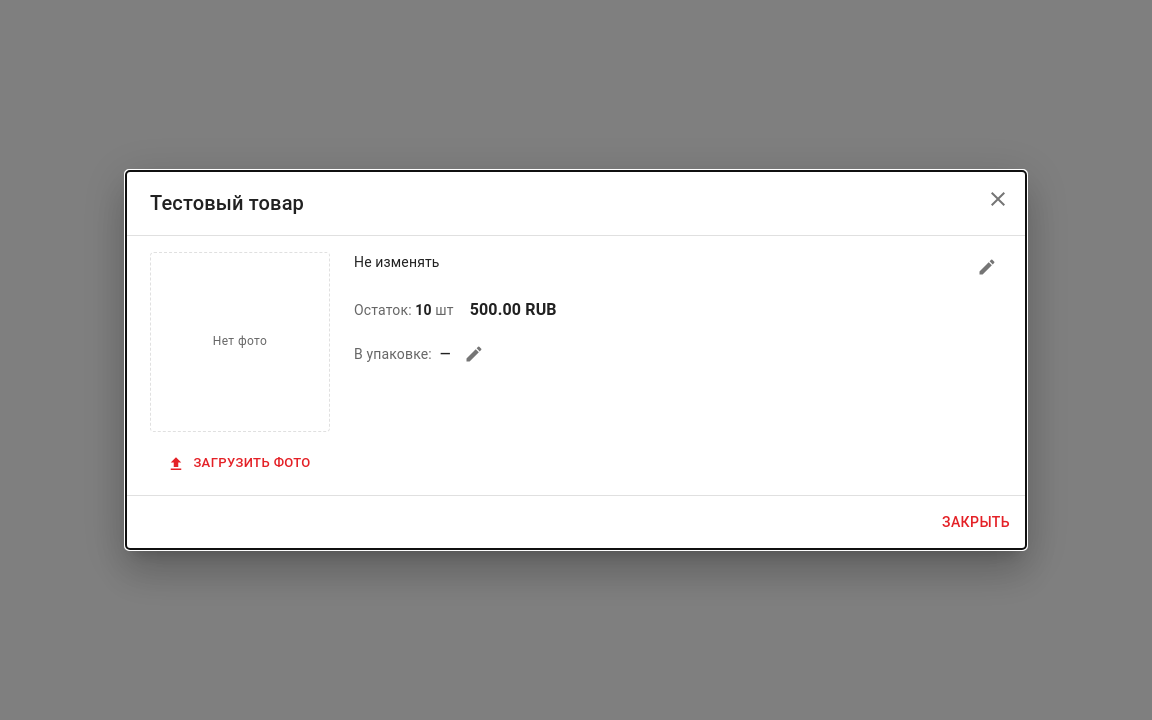
it: ProductDetailModal — editable description (ADMIN) › Отмена возвращает прежнее описание без вызова API
Click the button named "Редактировать описание" at (987, 267), box [972, 252, 1002, 282]
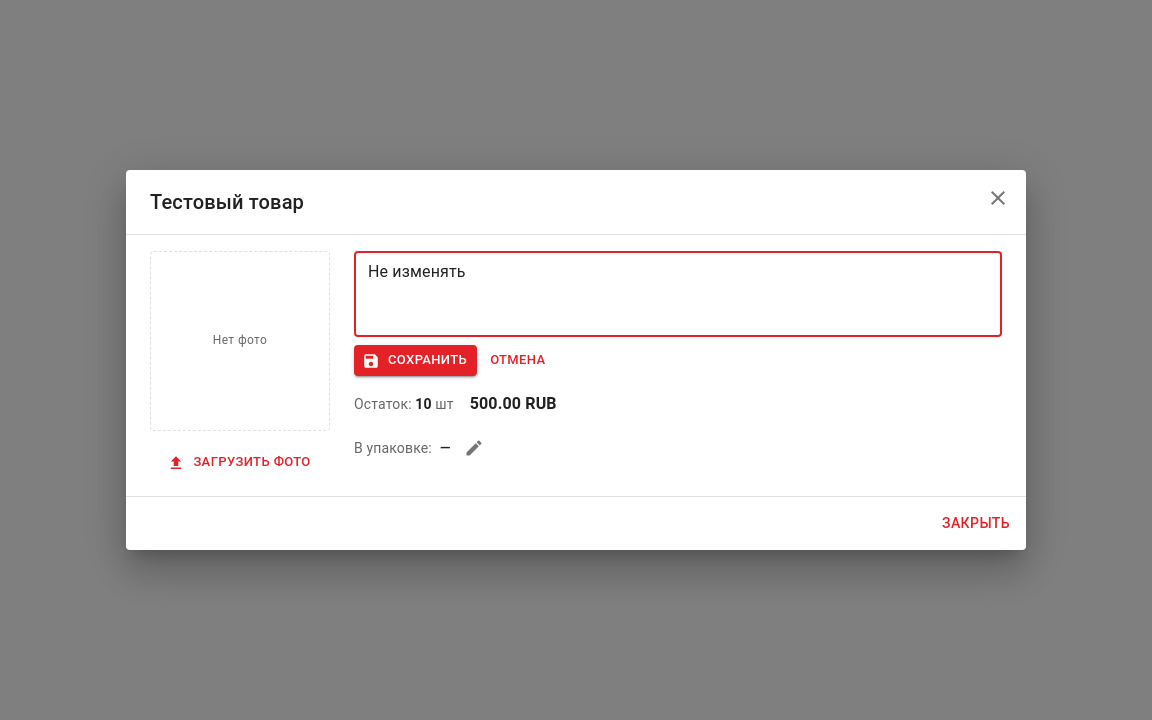
Replace the text in the text box with placeholder "Описание товара" with "Черновик" at (678, 294), box [368, 260, 988, 329]
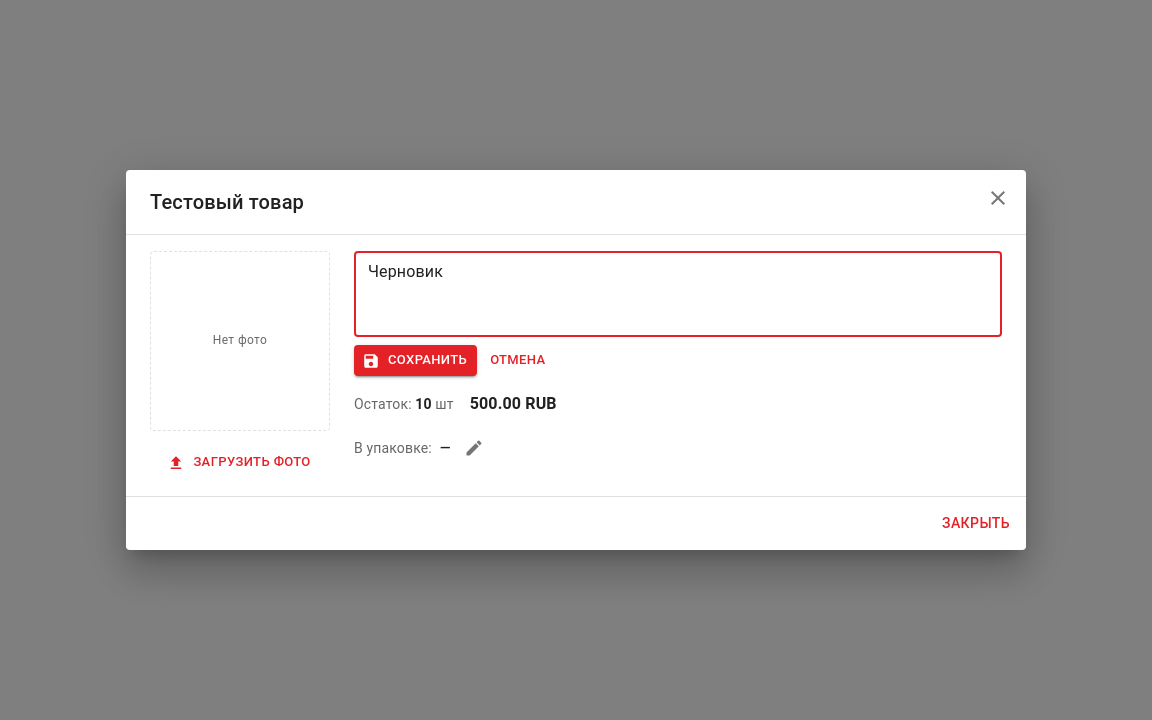
Click the button "Отмена" at (518, 361), box [485, 345, 550, 376]
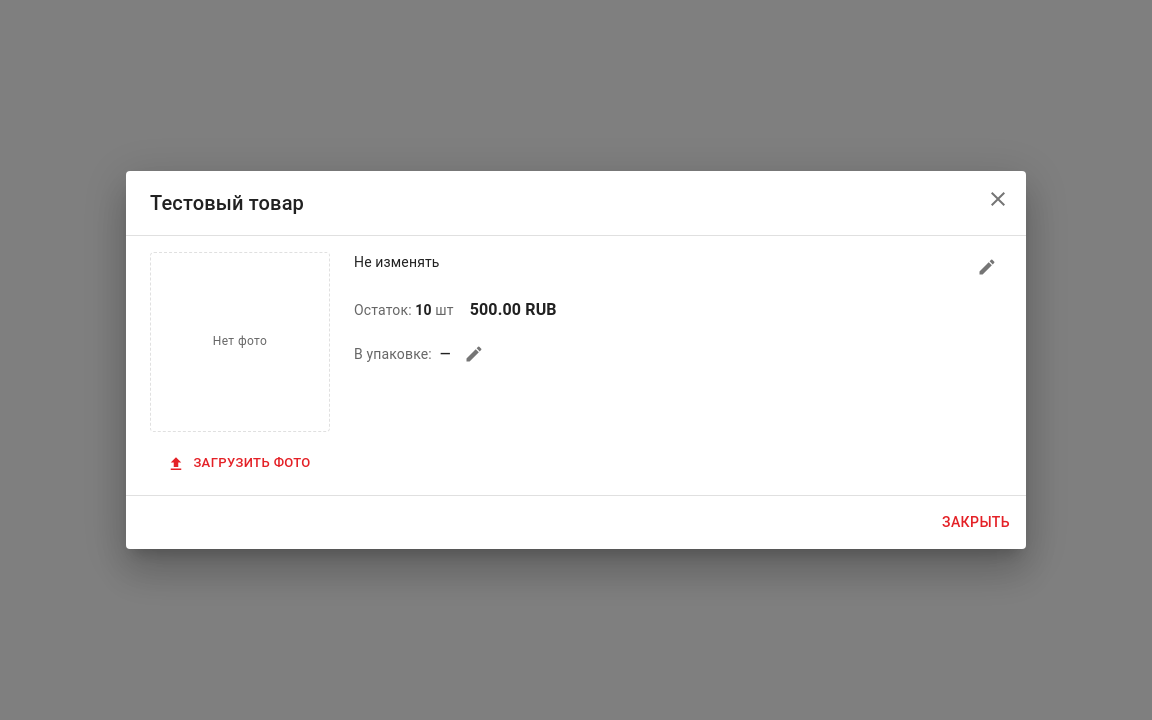
Check: the text "Не изменять" is shown, box [354, 254, 440, 270]
